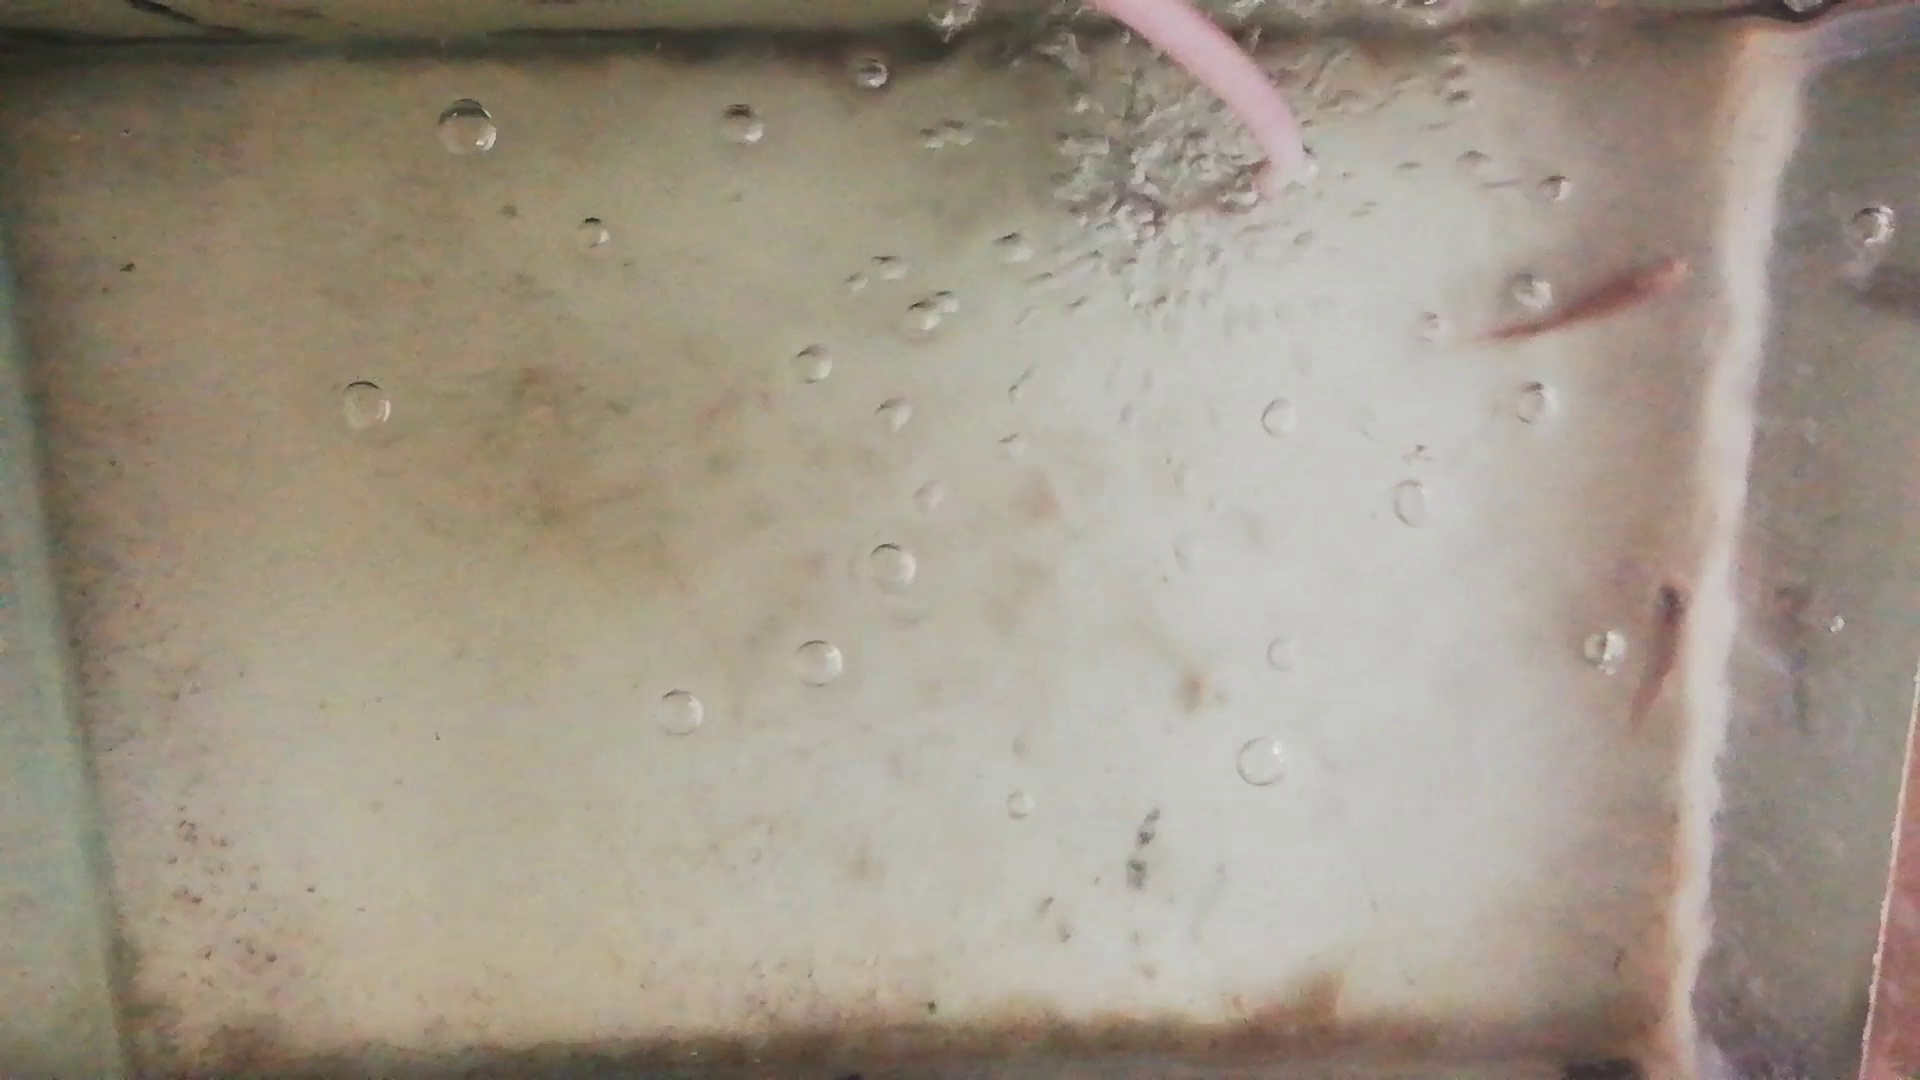fish: (1490, 256, 1692, 340), (1631, 583, 1693, 724)
